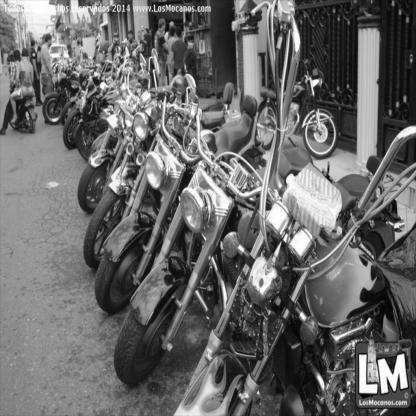moto: (158, 134, 416, 416), (105, 145, 267, 385), (77, 102, 118, 201)
